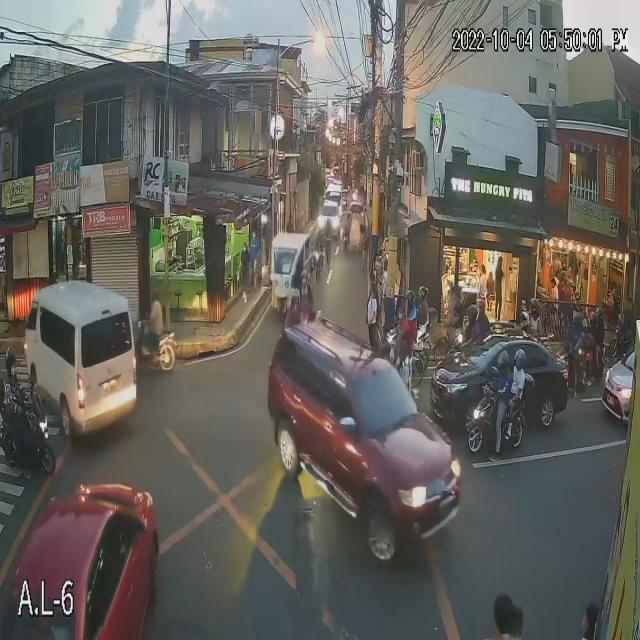helmet: (4, 351, 17, 379), (404, 292, 417, 313), (530, 300, 542, 318), (467, 307, 478, 325), (419, 286, 428, 303), (476, 297, 485, 313), (572, 313, 581, 327), (598, 308, 606, 321), (590, 314, 598, 325)
motorcycle: (0, 392, 52, 476), (468, 389, 527, 451), (381, 331, 431, 381), (557, 346, 601, 387)
rider: (5, 348, 20, 425), (399, 291, 417, 351), (525, 298, 546, 339), (462, 305, 480, 340), (418, 286, 431, 327), (569, 313, 582, 353), (474, 298, 488, 327), (588, 310, 598, 346), (596, 307, 606, 335)
